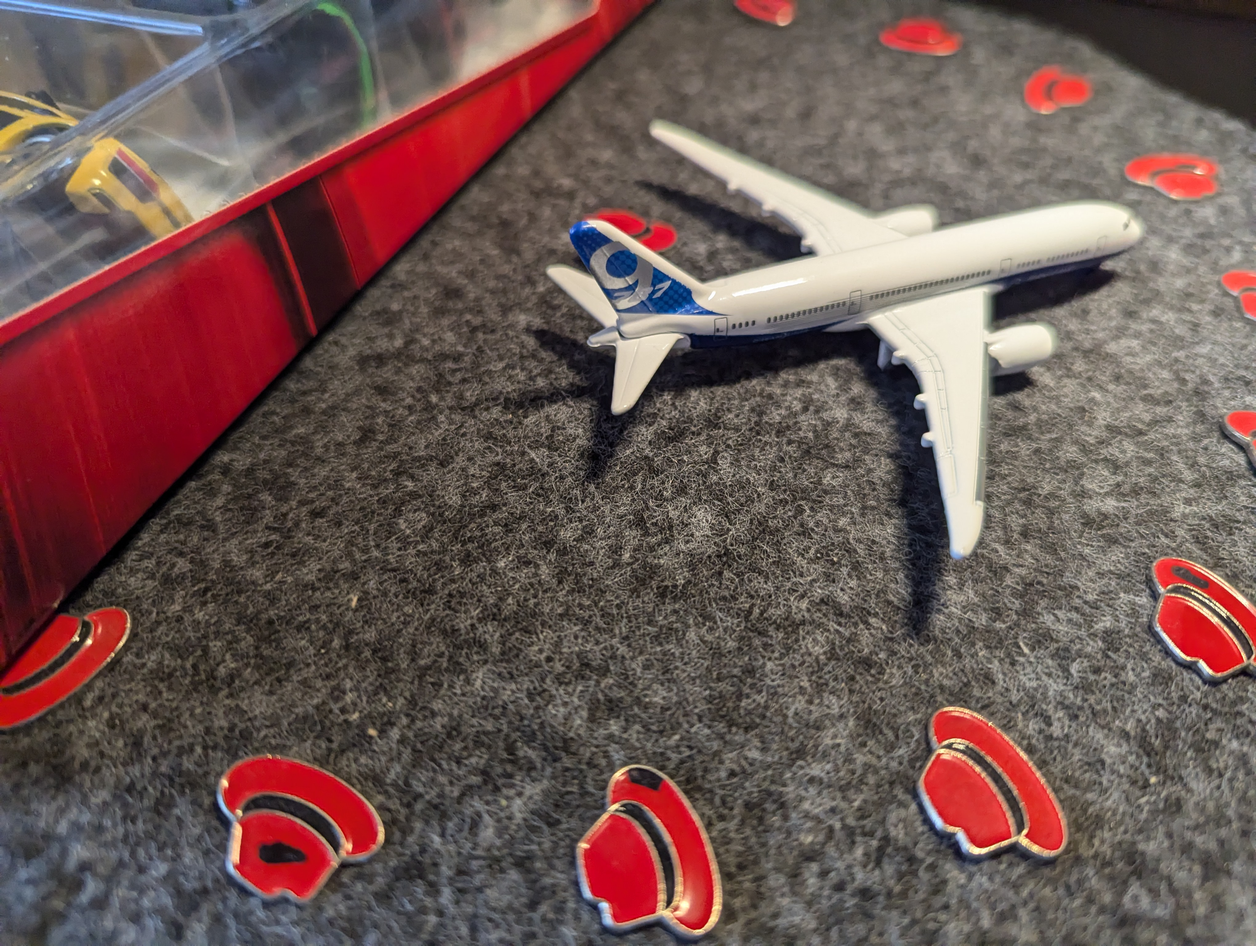Airplane: (525, 88, 1178, 599)
Red-Hat: (181, 731, 400, 922), (563, 737, 749, 942), (909, 685, 1081, 876), (0, 566, 164, 745), (1141, 535, 1256, 694), (1116, 131, 1226, 209), (571, 195, 686, 262), (1016, 50, 1099, 128), (868, 7, 974, 65)
Scratch: (252, 829, 328, 872), (623, 753, 672, 802), (1161, 561, 1221, 593), (1170, 147, 1203, 181)
